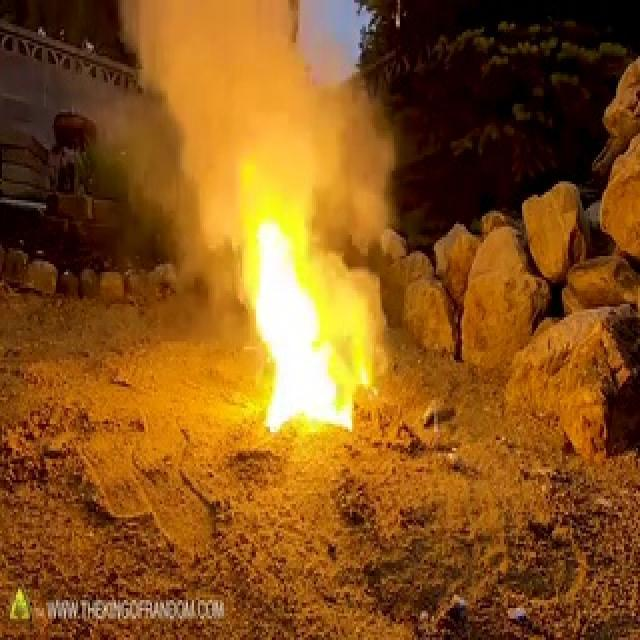Fire: (216, 138, 364, 442)
